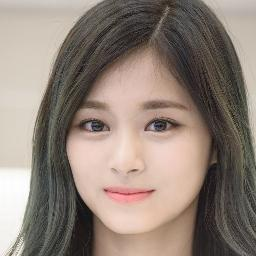face: (66, 62, 206, 232)
